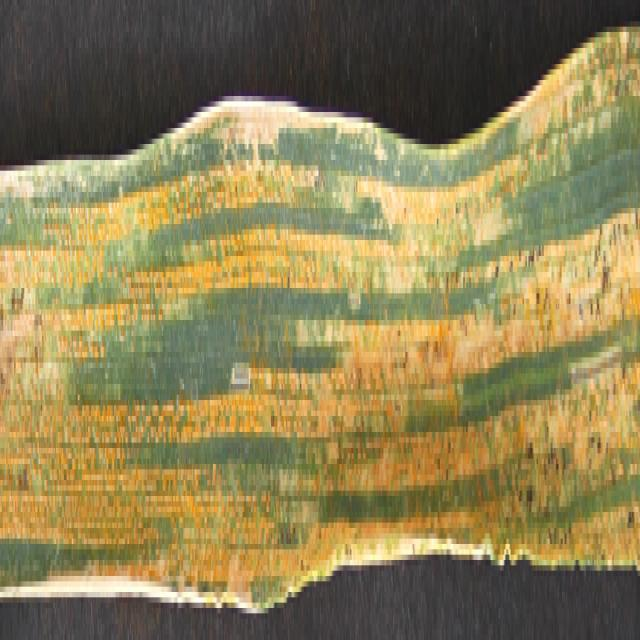leaf rust: (1, 144, 638, 587)
